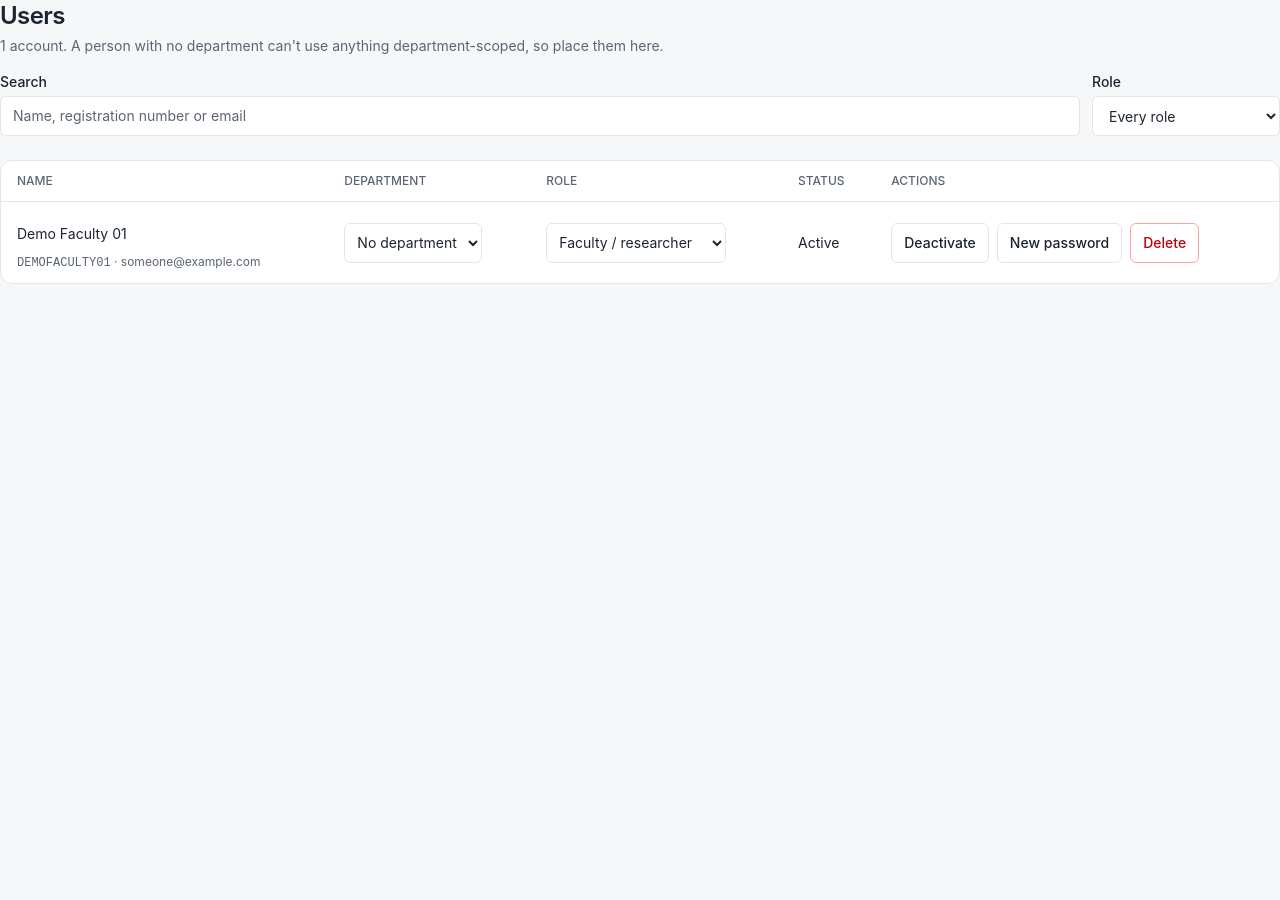
Test case: AdminUsersPage › says plainly when an account has no work attached
Step 1. Click the button with aria-label "delete demo faculty 01" → (1165, 242), box [1130, 222, 1199, 262]
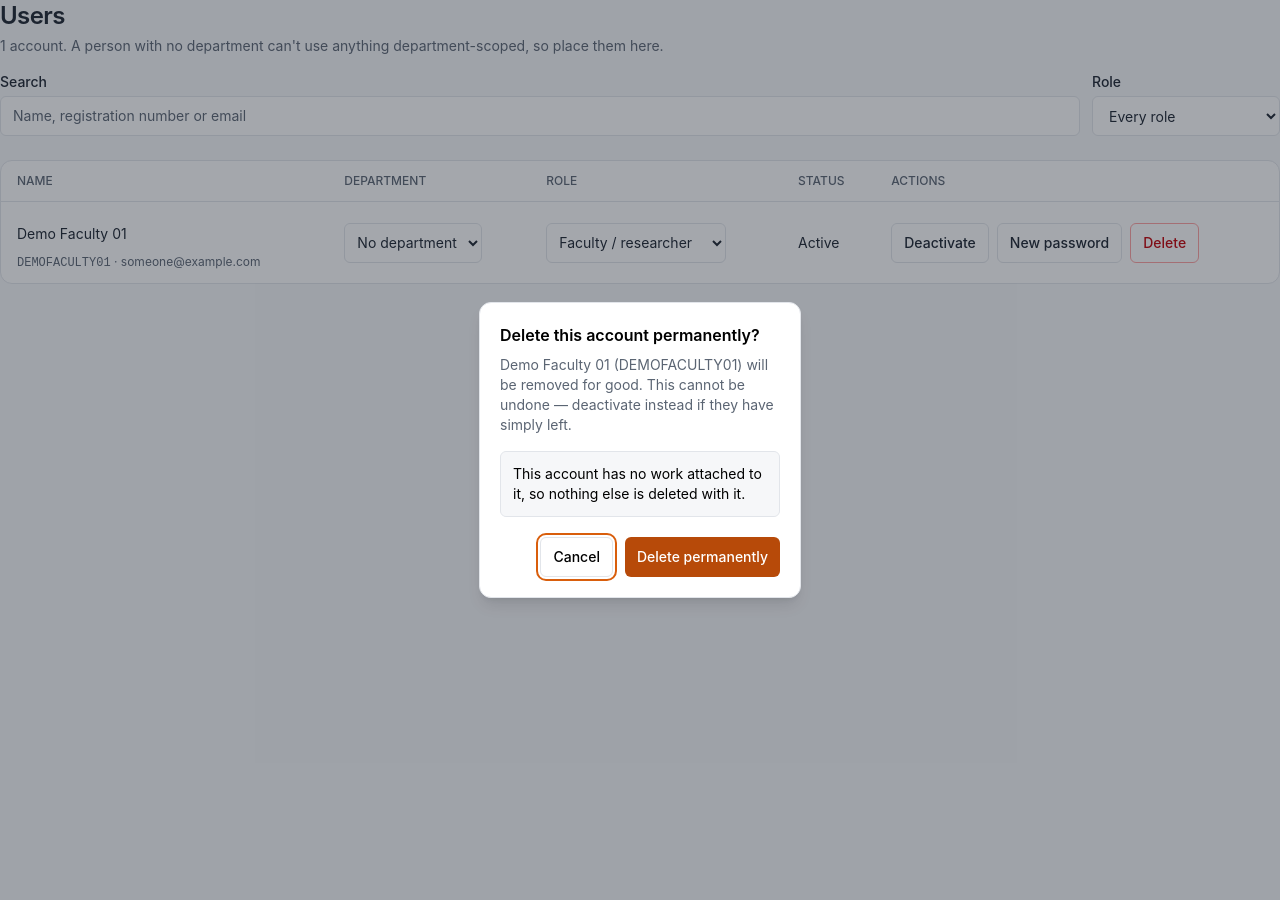
Expected: the text "nothing else is deleted with it" is shown, [513, 465, 762, 502]
